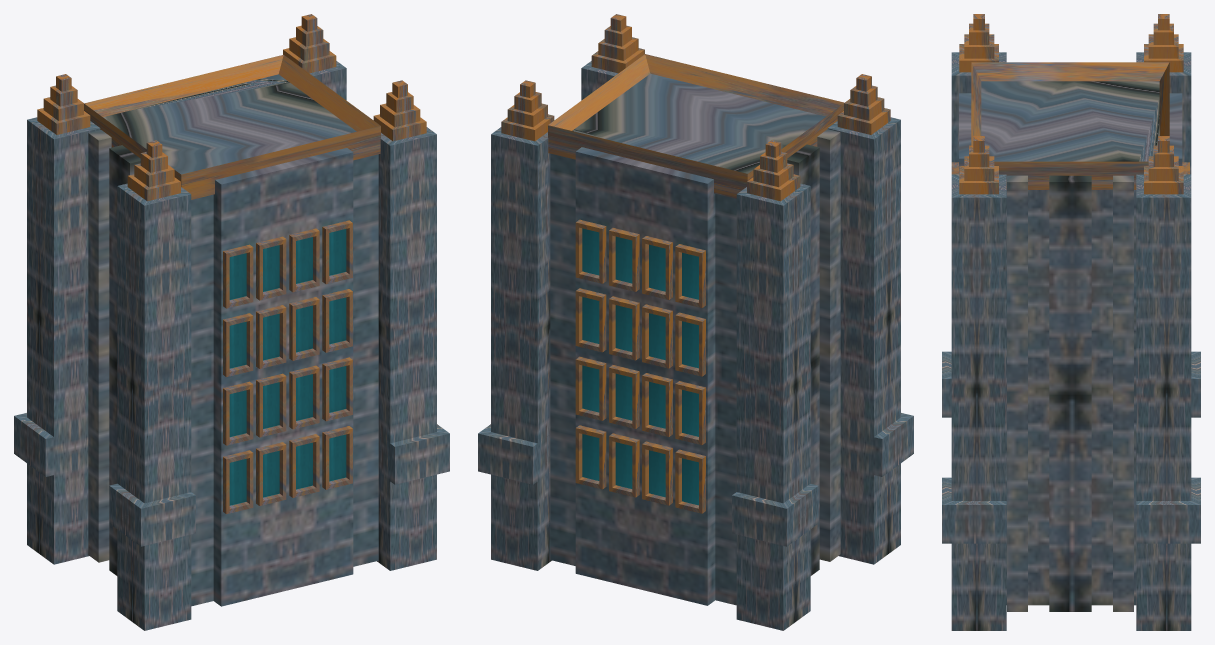
File: nybuilding2.fbx
The picture shows the model from 3 angles, left to right: view 1: azimuth 30°, elevation 25°; view 2: azimuth 150°, elevation 25°; view 3: azimuth 270°, elevation 25°; orthographic projection.
Visible parts, largest first — view 1: pCube20; view 2: pCube20; view 3: pCube20.
Part boxes in pixels (bbox=[...]): pCube20: bbox=[14, 14, 449, 630]; pCube20: bbox=[478, 14, 913, 630]; pCube20: bbox=[942, 14, 1200, 630].
Size of the model in its own units: 37.73 by 55.08 by 26.87.
